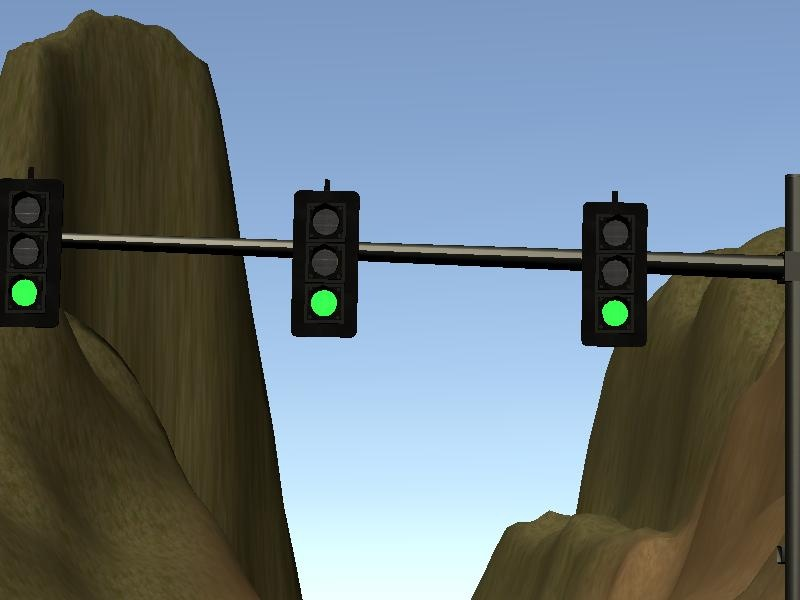GREEN: (580, 199, 650, 350), (292, 192, 360, 337), (1, 180, 58, 328)
